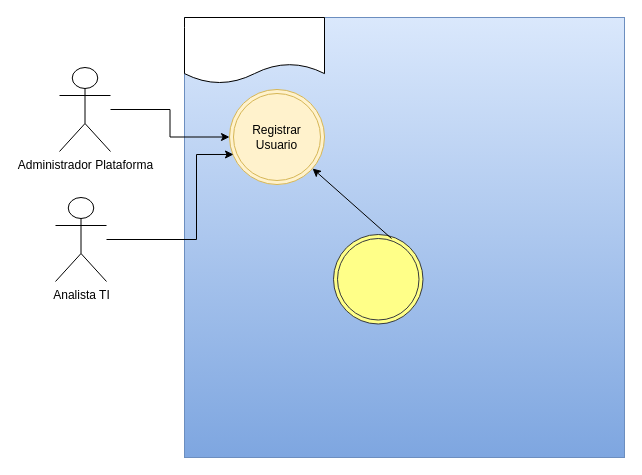
Some shapes in this 642 by 475 pixel diagram are drawn without their labels. The box of each missing label's shape, as (x1, y1, x2, y2) in pixels:
Actualizar Usuario: (332, 234, 423, 324)
SISTEMA DE VENTAS: (184, 16, 324, 84)
